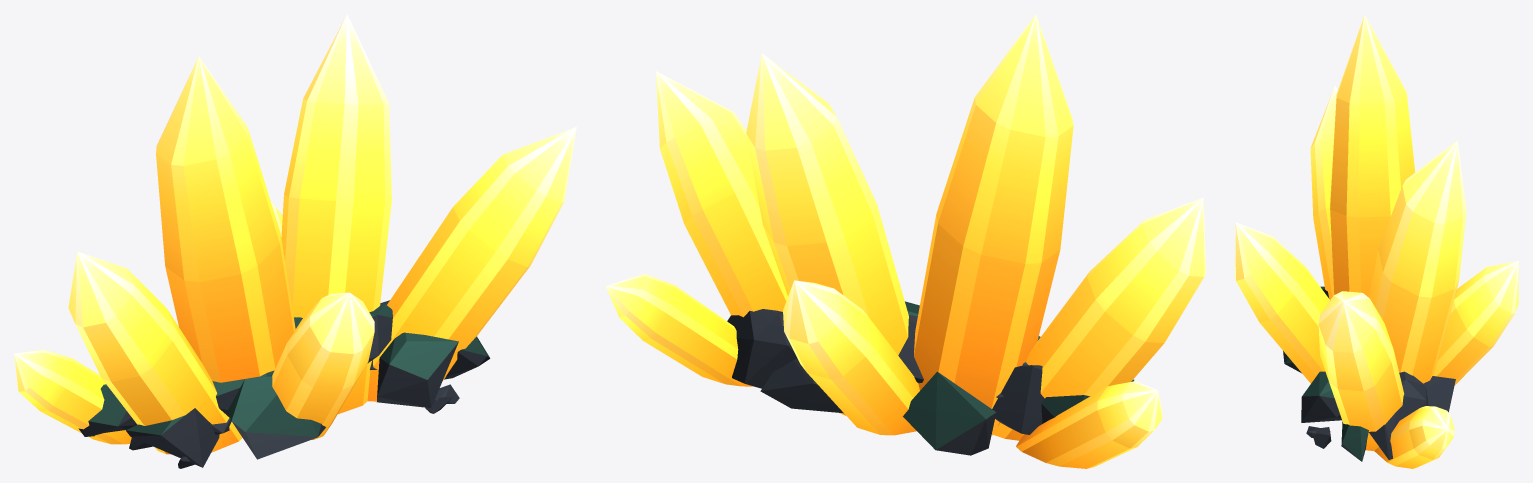
File: crystal_d.glb
3 renders of one model, left to right at view 1: azimuth 30°, elevation 25°; view 2: azimuth 150°, elevation 25°; view 3: azimuth 270°, elevation 25°, orthographic. The views are drawn at different scales.
Parts seen in each view (by area): view 1: crystal_d; view 2: crystal_d; view 3: crystal_d.
Boxes of the visible parts, x1=… form: crystal_d: x1=14, y1=14, x2=576, y2=468; crystal_d: x1=605, y1=14, x2=1206, y2=468; crystal_d: x1=1235, y1=14, x2=1518, y2=468.
Size of the model in its own units: 2.1 by 1.49 by 1.15.
2 materials, 2 textured.
